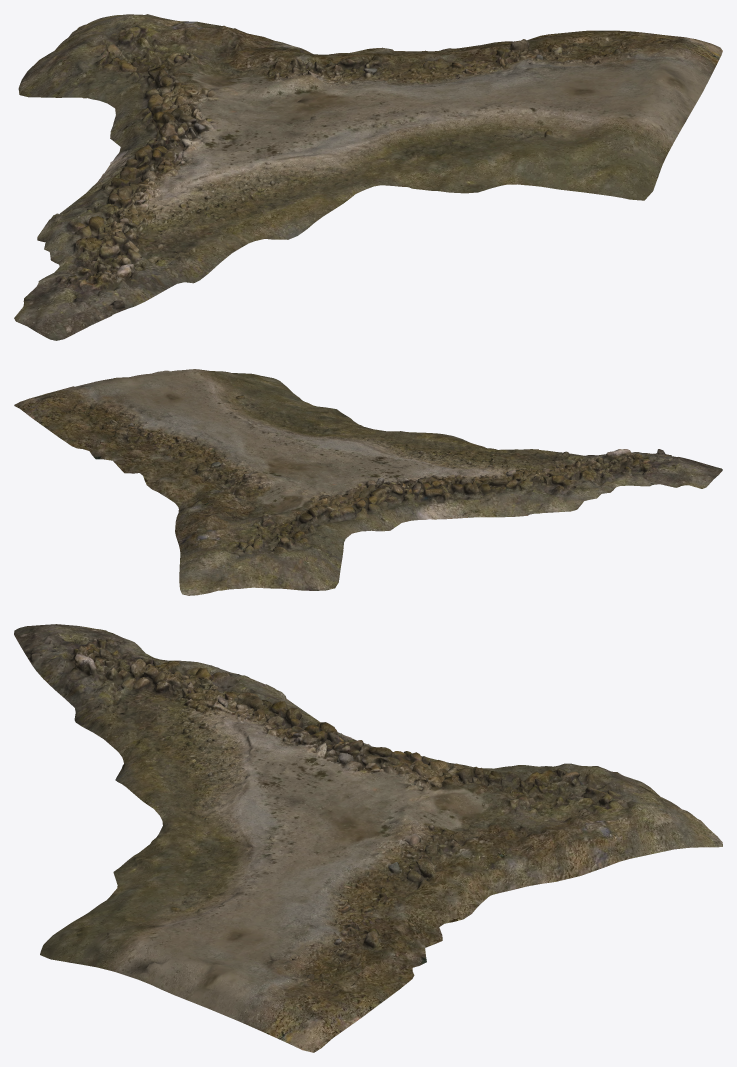
Rendered from coast_rocks_01.glb.
3 renders of one model, top to bottom at view 1: azimuth 30°, elevation 25°; view 2: azimuth 150°, elevation 25°; view 3: azimuth 270°, elevation 25°, orthographic. The views are drawn at different scales.
Visible parts, largest first — view 1: coast_rocks_01; view 2: coast_rocks_01; view 3: coast_rocks_01.
Part boxes in pixels (x1,y1,x2,y2): coast_rocks_01: (14,14,722,340); coast_rocks_01: (14,369,722,595); coast_rocks_01: (14,624,722,1052).
Size of the model in its own units: 59.51 by 3.28 by 42.51.
1 material, 1 textured.
